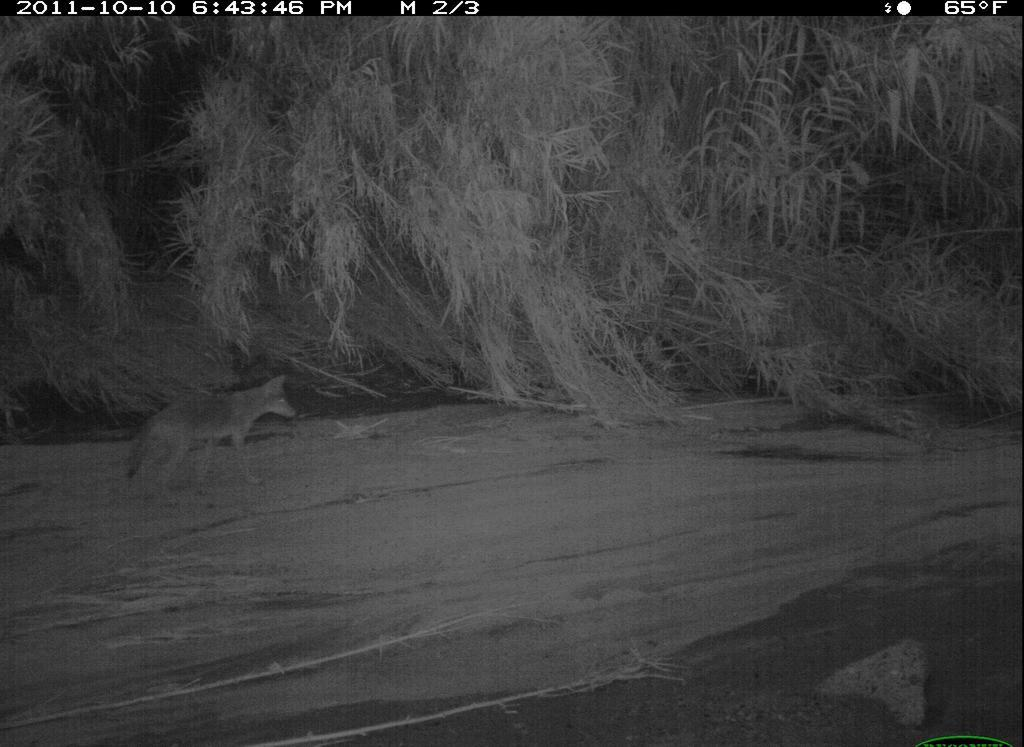coyote: (113, 369, 299, 502)
